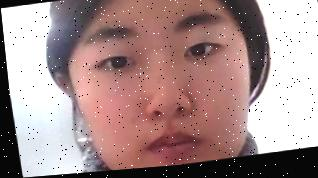eye: (110, 57, 126, 71), (190, 49, 205, 62)
iris: (180, 45, 221, 64), (95, 55, 133, 74)
